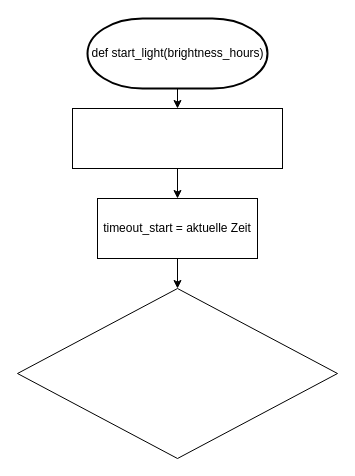
Some shapes in this 355 by 476 pixel diagram are drawn without their labels. The shapes that lost their labels are listed below. From the top down, each one's box as (x1, y1, x2, y2) in pixels, then its label:
(72, 108, 282, 168): time_to_shine = brightness_hours * 60
(16, 288, 338, 458): while time.time() < timeout_start + time_to_shine
